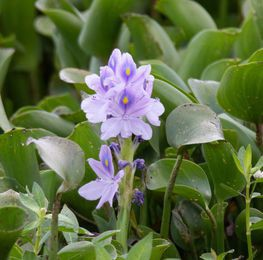water_hyacinth: (1, 54, 263, 260)
